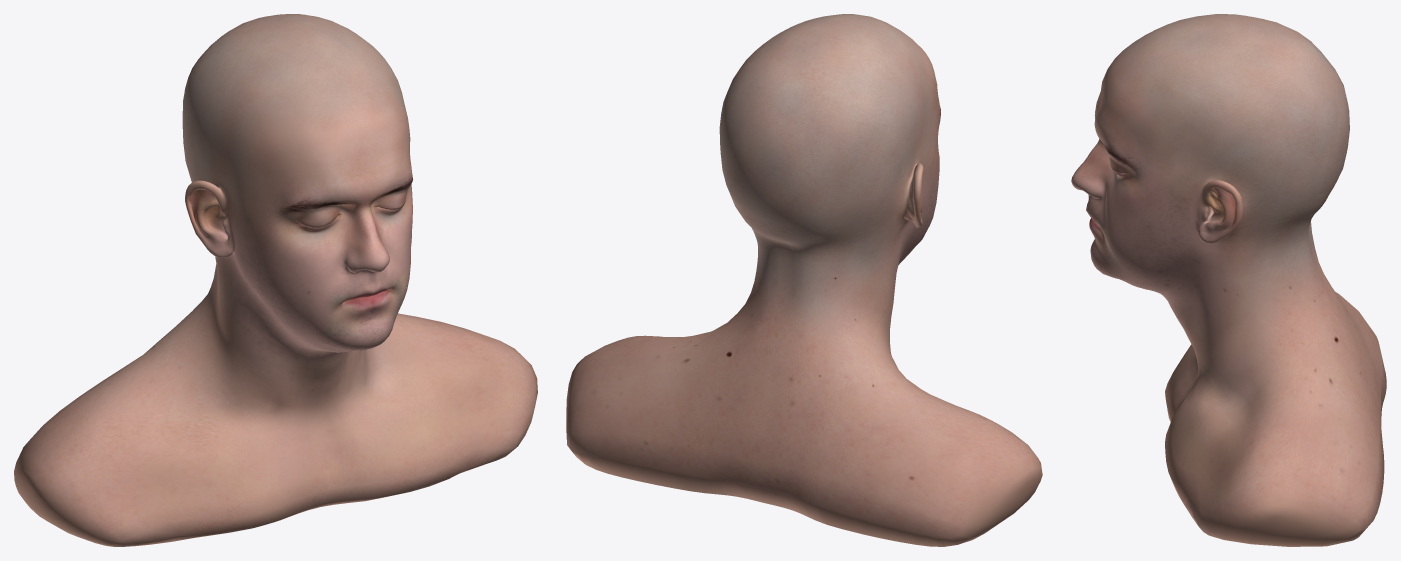
The model's file is head_scan.glb.
3 renders of one model, left to right at view 1: azimuth 30°, elevation 25°; view 2: azimuth 150°, elevation 25°; view 3: azimuth 270°, elevation 25°, orthographic. The views are drawn at different scales.
Parts seen in each view (by area): view 1: head_scan; view 2: head_scan; view 3: head_scan.
Boxes of the visible parts, left/top/right/bottom form: head_scan: left=14, top=14, right=537, bottom=546; head_scan: left=566, top=14, right=1042, bottom=546; head_scan: left=1071, top=14, right=1386, bottom=546.
Bounding box in the file's own units: 0.3865 × 0.359 × 0.2341.
1 material, 1 textured.
